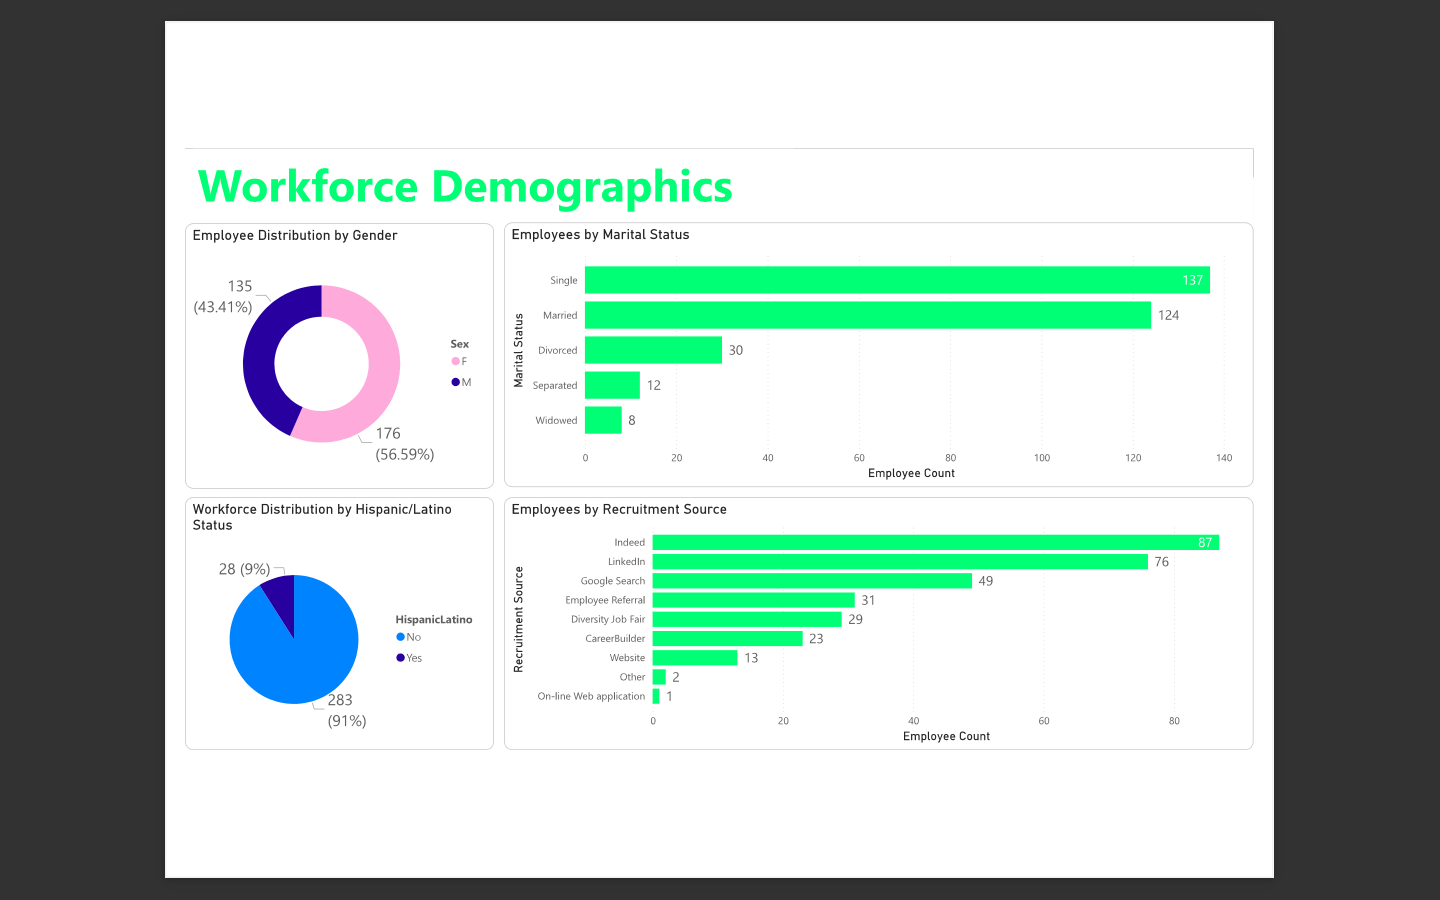

Layout of this report page (visuals, bound fields, positions):
{"tool":"powerbi","page":{"name":"Demographics","canvas":[1280,720],"ordinal":3},"visuals":[{"type":"textbox","box":[10.1,0,719,89],"z":0},{"type":"donutChart","title":"Employee Distribution by Gender","fields":{"Category":["HRDataset_v14.Sex"],"Y":["CountNonNull(HRDataset_v14.EmpID)"]},"box":[0,89,369.6,317.5],"z":1000},{"type":"clusteredBarChart","title":"Employees by Marital Status","fields":{"Y":["CountNonNull(HRDataset_v14.EmpID)"],"Category":["HRDataset_v14.MaritalDesc"]},"box":[381.7,88.3,898.3,316.7],"z":2000},{"type":"pieChart","title":"Workforce Distribution by Hispanic/Latino Status","fields":{"Category":["HRDataset_v14.HispanicLatino"],"Y":["CountNonNull(HRDataset_v14.EmpID)"]},"box":[0,416.7,370,303.3],"z":3000},{"type":"barChart","title":"Employees by Recruitment Source","fields":{"Category":["HRDataset_v14.RecruitmentSource"],"Y":["CountNonNull(HRDataset_v14.EmpID)"]},"box":[381.7,416.7,898.3,303.3],"z":4000}]}

Visuals, with their boxes on the page's 1280x720 design canvas (x1, y1, x2, y2). These are canvas units, not pixel positions in the 1440x900 screenshot, which may show the page scaled, cropped or inside an application window:
textbox: 10/0/729/89
"Employee Distribution by Gender" donutChart: 0/89/370/406
"Employees by Marital Status" clusteredBarChart: 382/88/1280/405
"Workforce Distribution by Hispanic/Latino Status" pieChart: 0/417/370/720
"Employees by Recruitment Source" barChart: 382/417/1280/720
